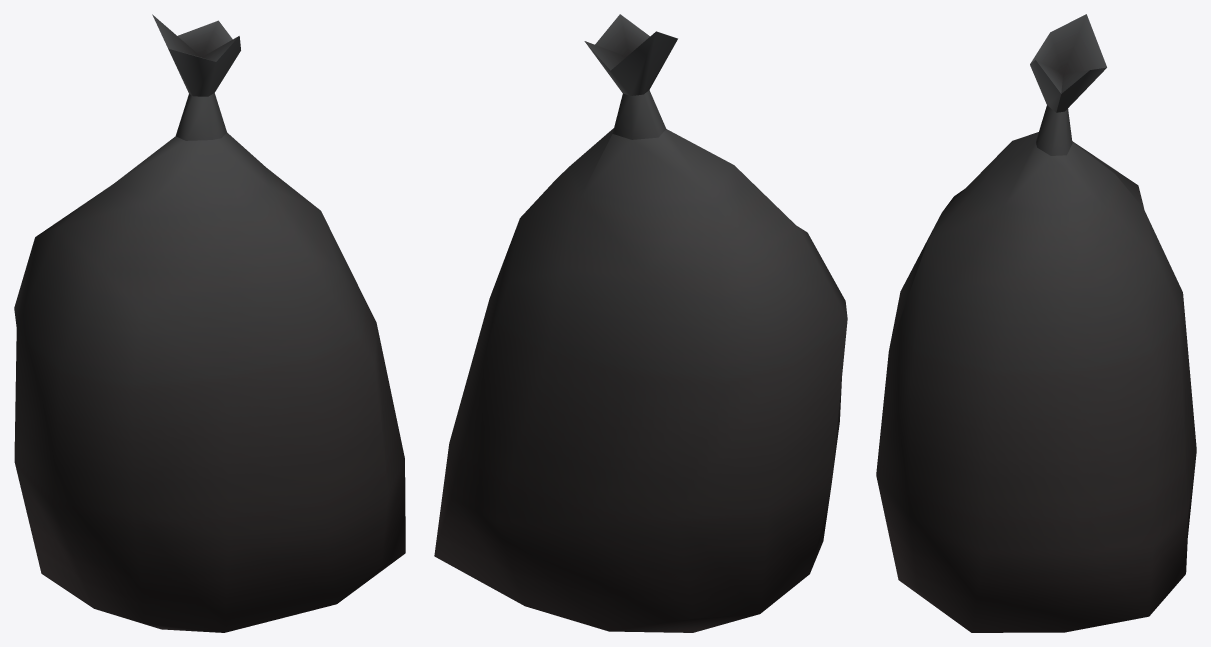
File: Trash_bag_002.glb
The picture shows the model from 3 angles, left to right: view 1: azimuth 30°, elevation 25°; view 2: azimuth 150°, elevation 25°; view 3: azimuth 270°, elevation 25°; orthographic projection. The views are drawn at different scales.
Visible parts, largest first — view 1: Trash_bag_002; view 2: Trash_bag_002; view 3: Trash_bag_002.
Part boxes in pixels (left/top/right/bottom): Trash_bag_002: left=14, top=14, right=405, bottom=632; Trash_bag_002: left=434, top=14, right=847, bottom=632; Trash_bag_002: left=876, top=14, right=1196, bottom=632.
Size of the model in its own units: 0.3302 by 0.5219 by 0.2772.
Materials: 1 (1 with a texture image).
